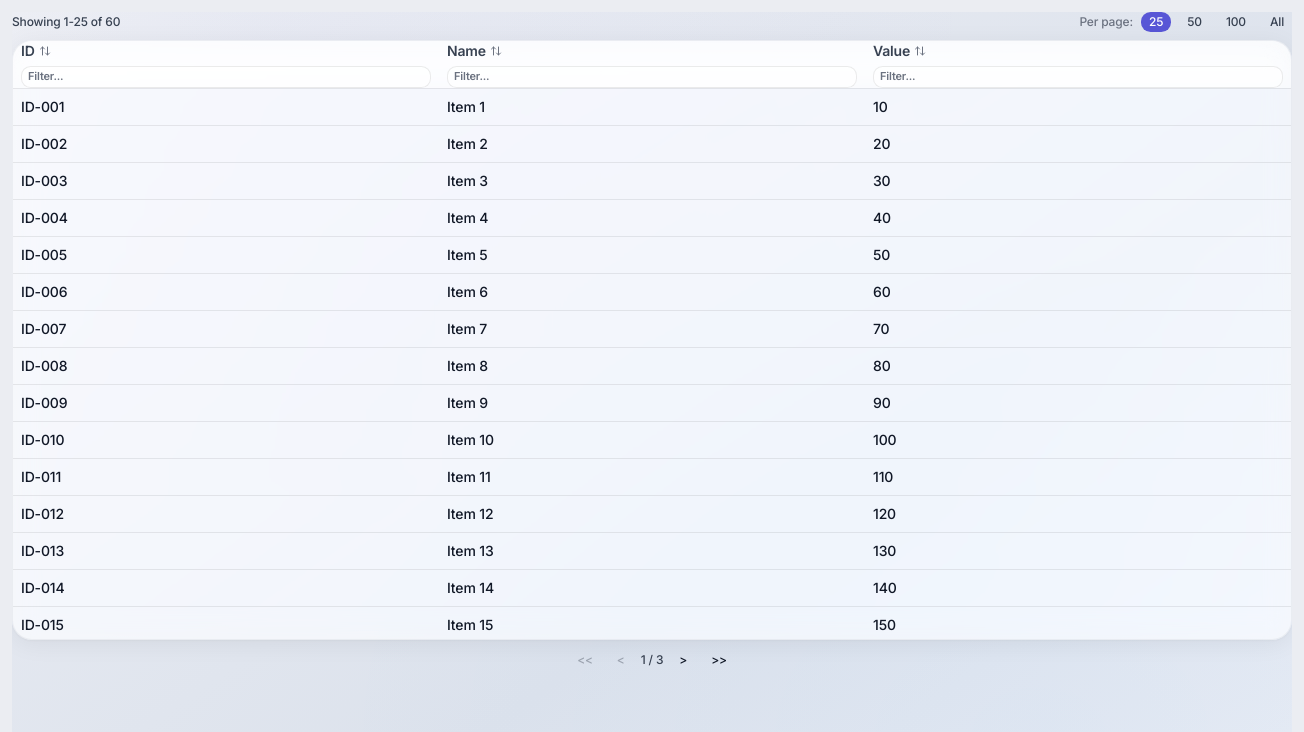
Scenario: DataTable › shows 'All' button that disables pagination
Expected: the text "ID-060" is not shown
Note: Click 'All'
Step 1. Click the button "All" → (1277, 22), box [1262, 12, 1292, 32]
(page scrolled)
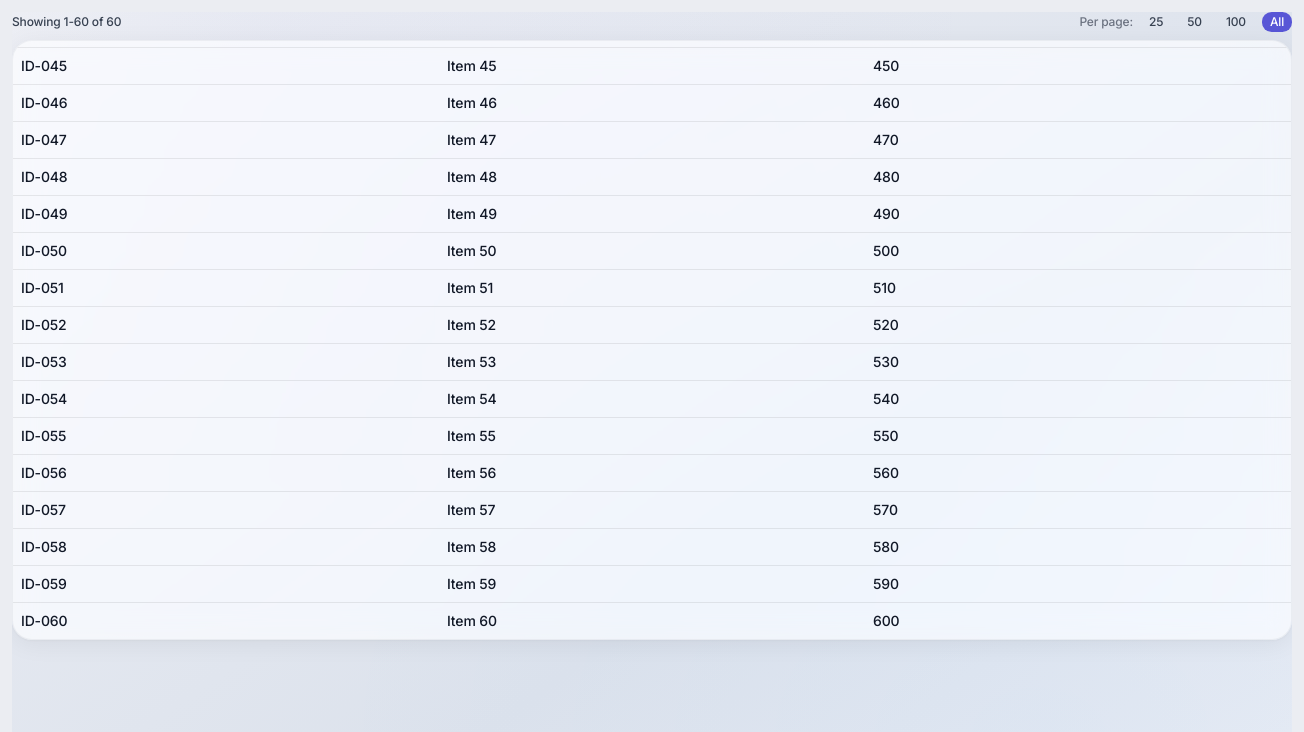
Expected: the text "ID-060" is shown, [13, 602, 439, 639]
